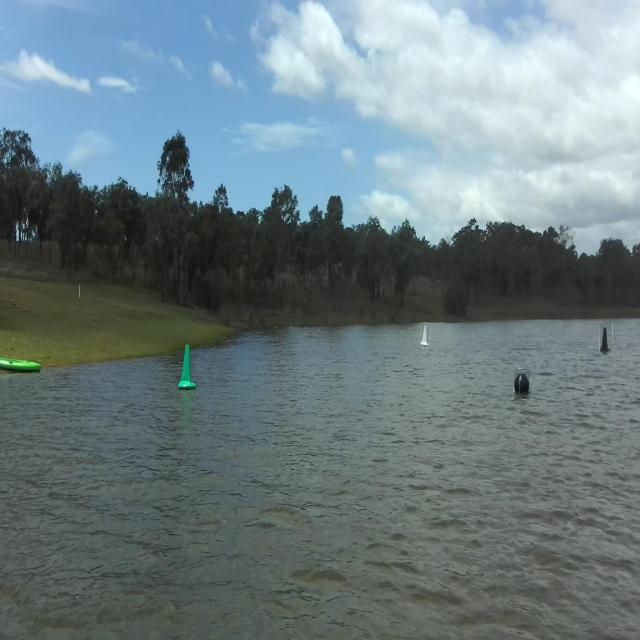Black_Buoy: (597, 321, 614, 358), (513, 371, 532, 403)
Green_Buoy: (180, 345, 199, 390)
White_Buoy: (416, 325, 433, 355)
